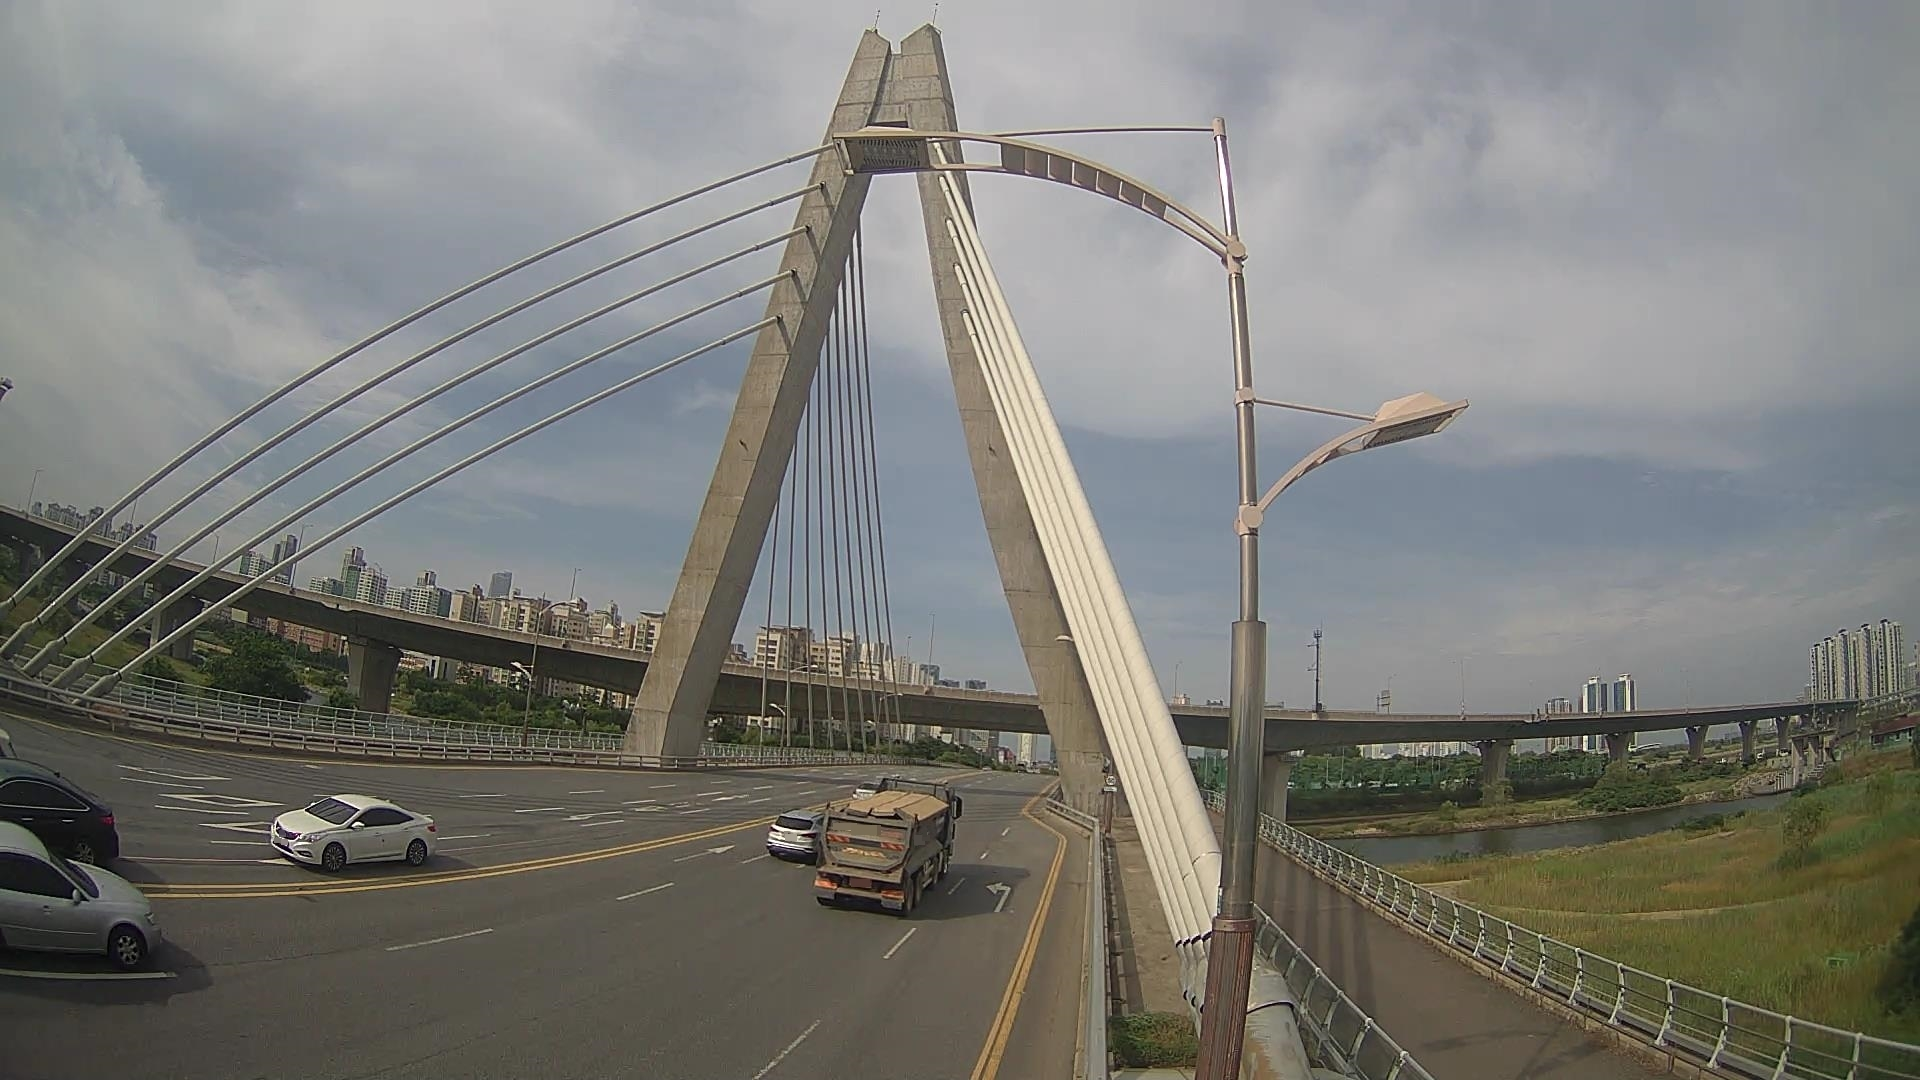정상차량: (810, 778, 963, 918)
